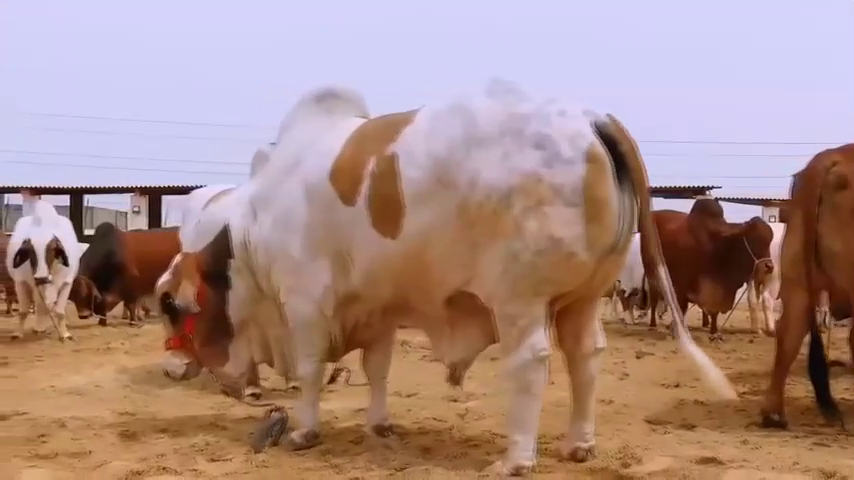bo: (138, 74, 745, 475), (729, 110, 854, 442), (630, 166, 774, 344), (57, 193, 206, 332), (2, 185, 82, 345), (594, 207, 665, 324)
